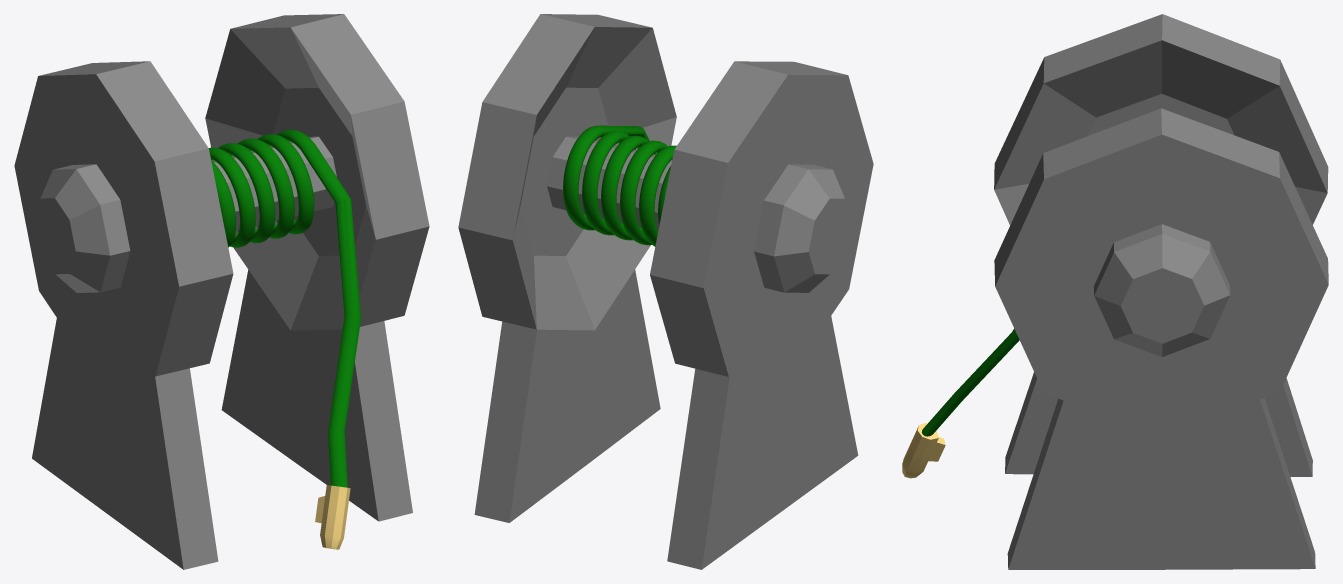
The model's file is Manguera.fbx.
3 renders of one model, left to right at view 1: azimuth 30°, elevation 25°; view 2: azimuth 150°, elevation 25°; view 3: azimuth 270°, elevation 25°, orthographic.
Parts seen in each view (by area): view 1: Manguera; view 2: Manguera; view 3: Manguera.
Part boxes in pixels (x1,y1,x2,y2): Manguera: (14, 14, 429, 569); Manguera: (458, 14, 873, 569); Manguera: (902, 14, 1328, 569).
Size of the model in its own units: 120 by 153 by 134.
